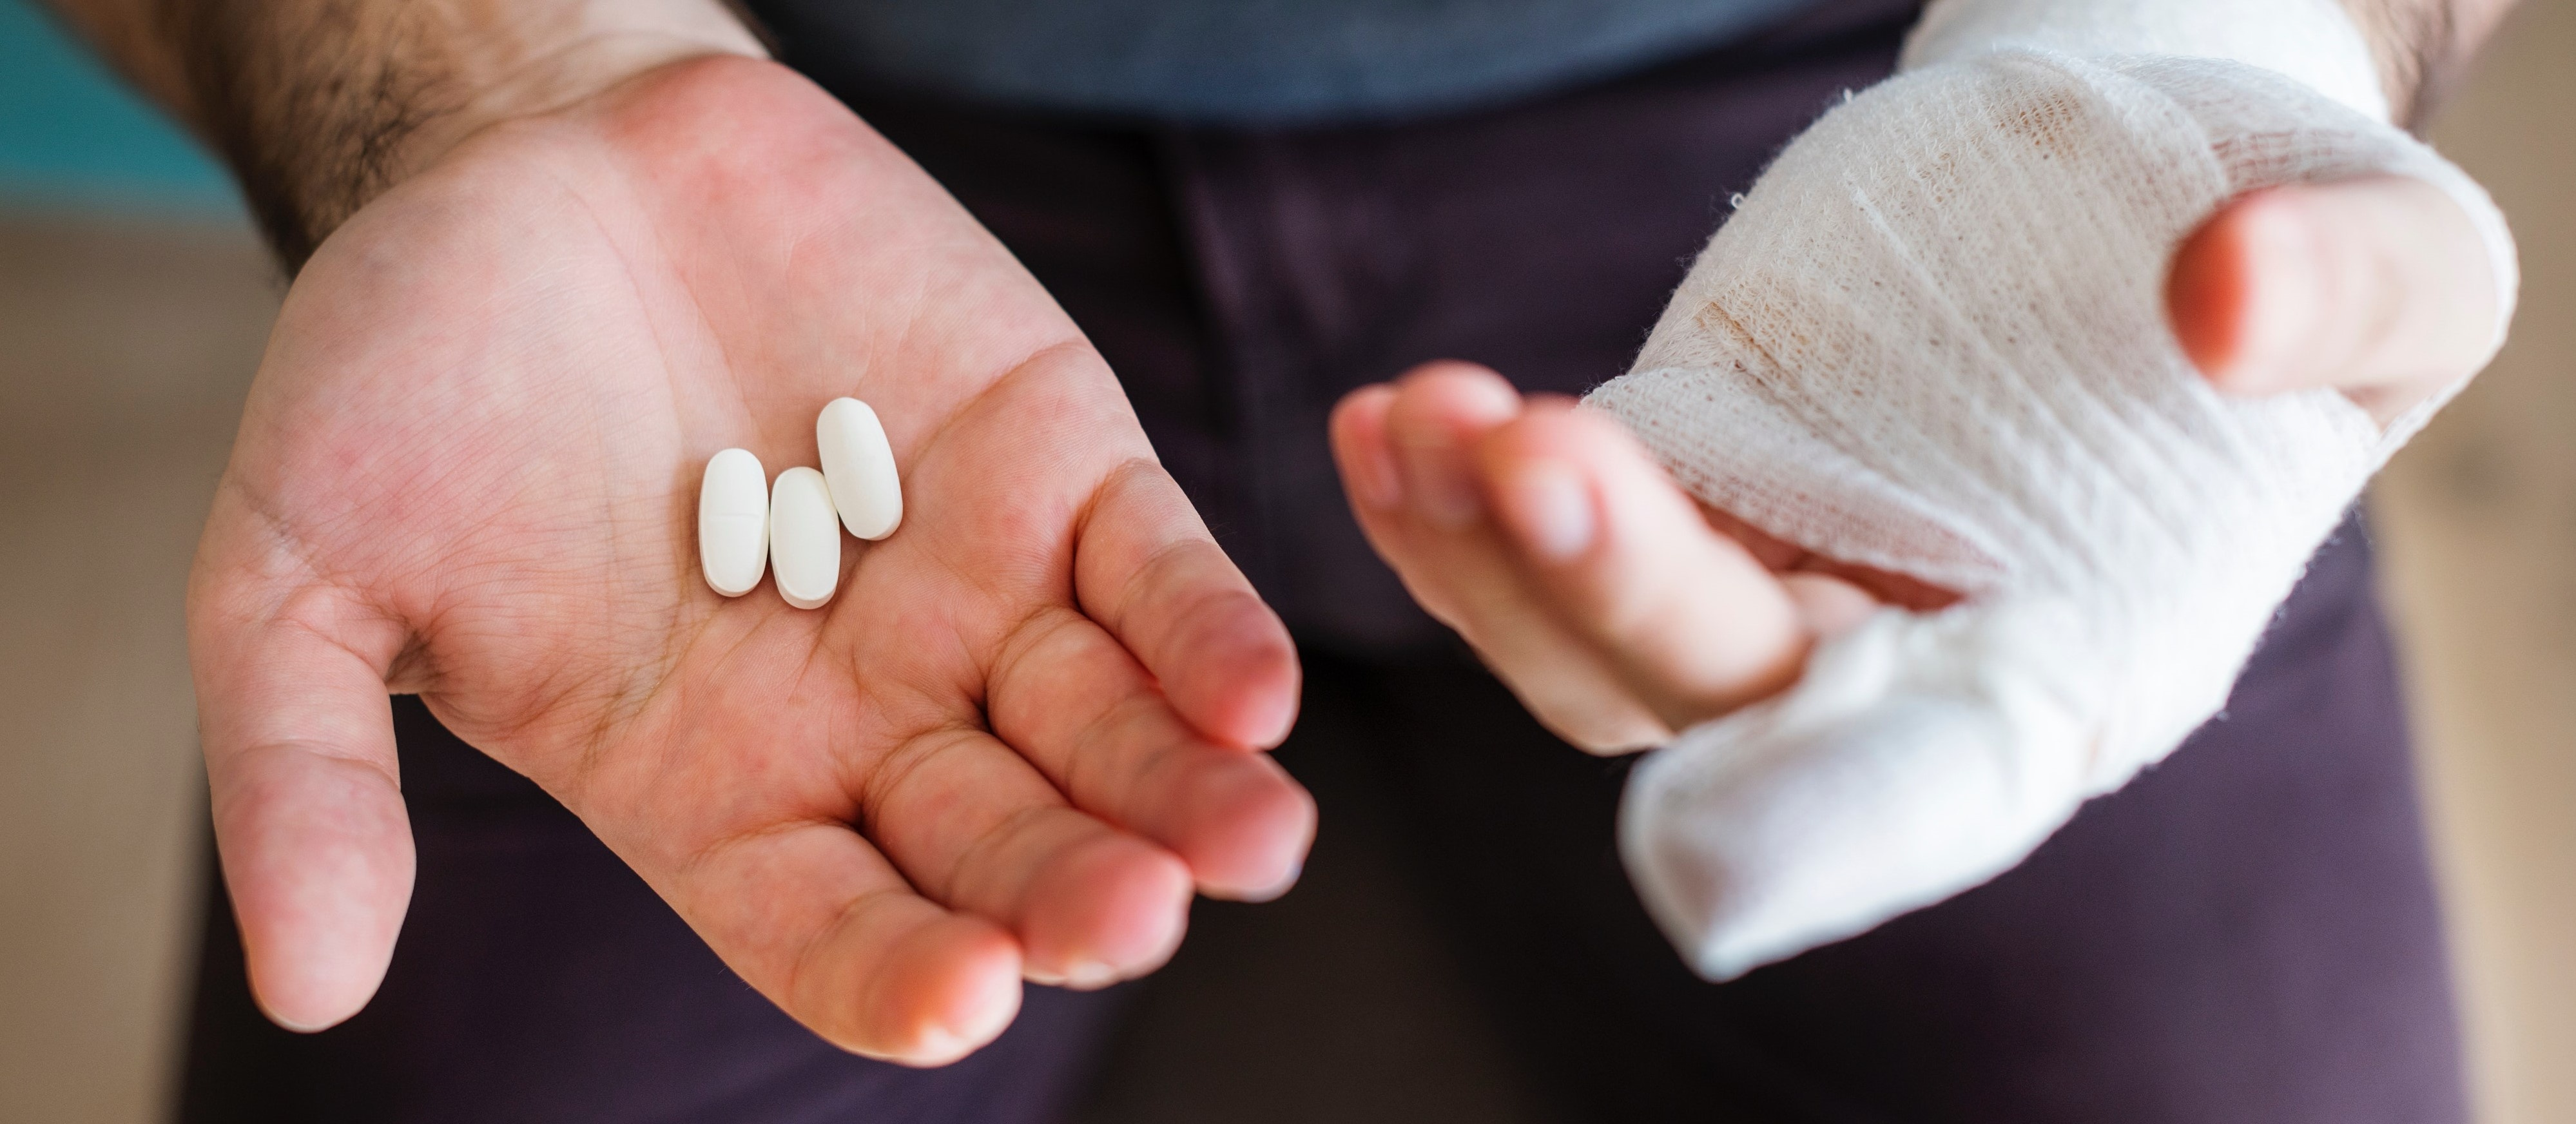pills: (813, 383, 905, 567), (775, 450, 853, 634), (700, 421, 767, 615)
